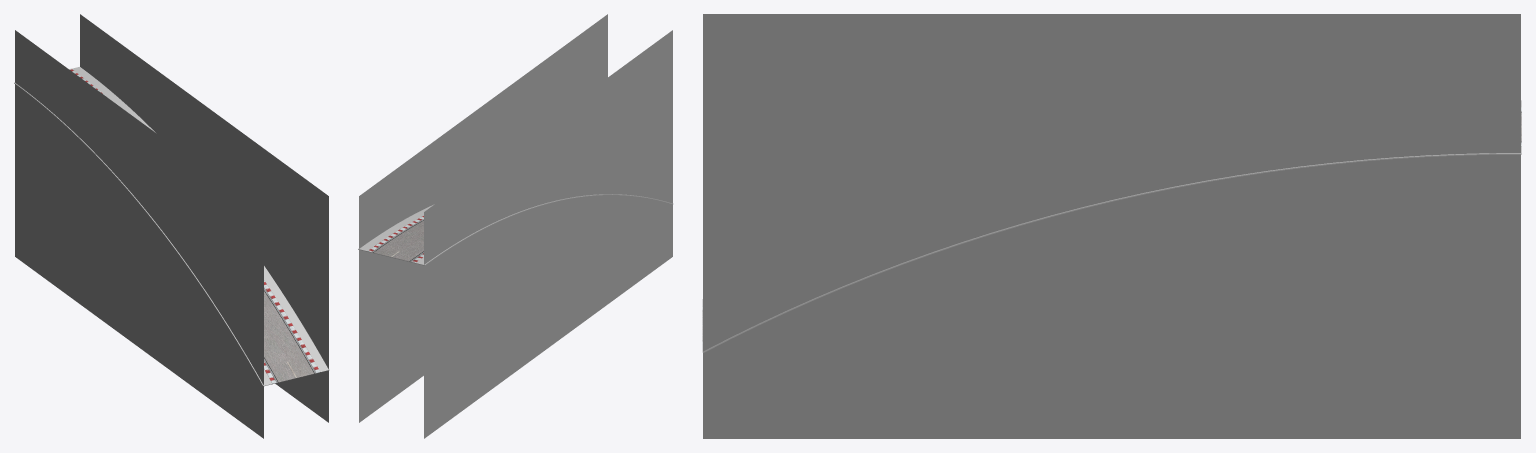
The model's file is track4.fbx.
3 views of the same model, side by side, from view 1: azimuth 30°, elevation 25°; view 2: azimuth 150°, elevation 25°; view 3: azimuth 270°, elevation 25° (orthographic). The views are drawn at different scales.
Visible parts, largest first — view 1: colider, track4; view 2: colider, track4; view 3: colider, track4.
Part boxes in pixels (x1,y1,x2,y2): colider: (15,14,328,438); track4: (14,67,329,386); colider: (359,14,672,438); track4: (358,194,673,265); colider: (703,14,1520,438); track4: (702,100,1521,352).
Size of the model in its own units: 4685 by 15265 by 30392.
